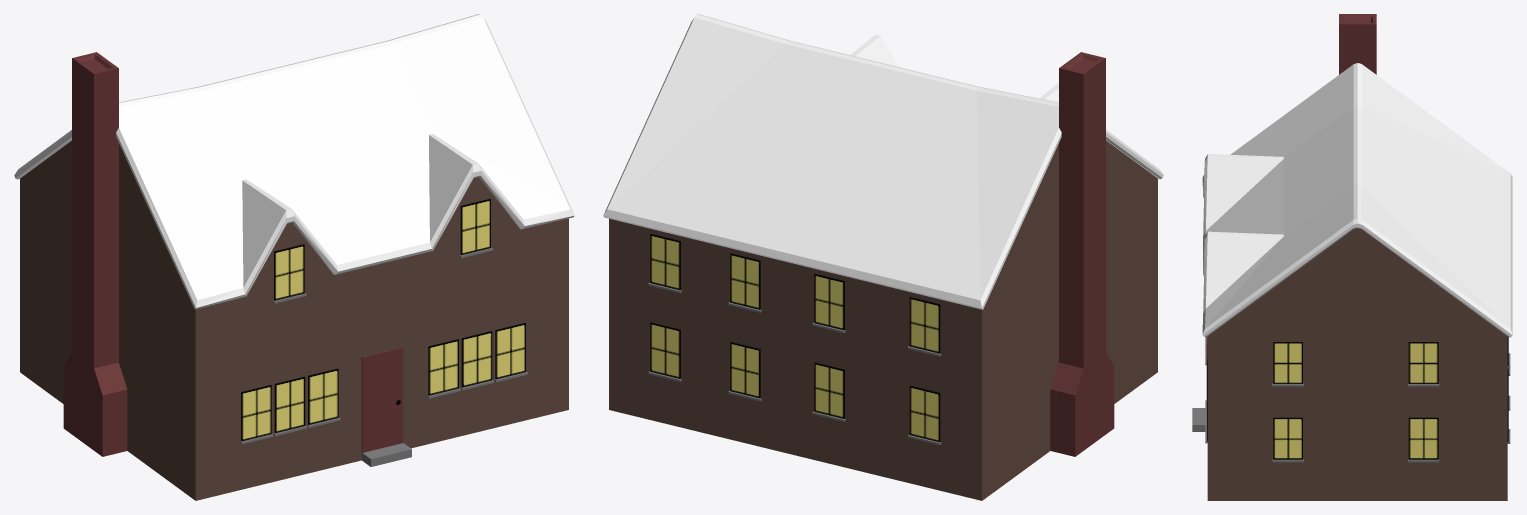
Rendered from house_2F_01.obj.
3 views of the same model, side by side, from view 1: azimuth 30°, elevation 25°; view 2: azimuth 150°, elevation 25°; view 3: azimuth 270°, elevation 25° (orthographic). The views are drawn at different scales.
Bounding box in the file's own units: 894 × 802 × 726.
